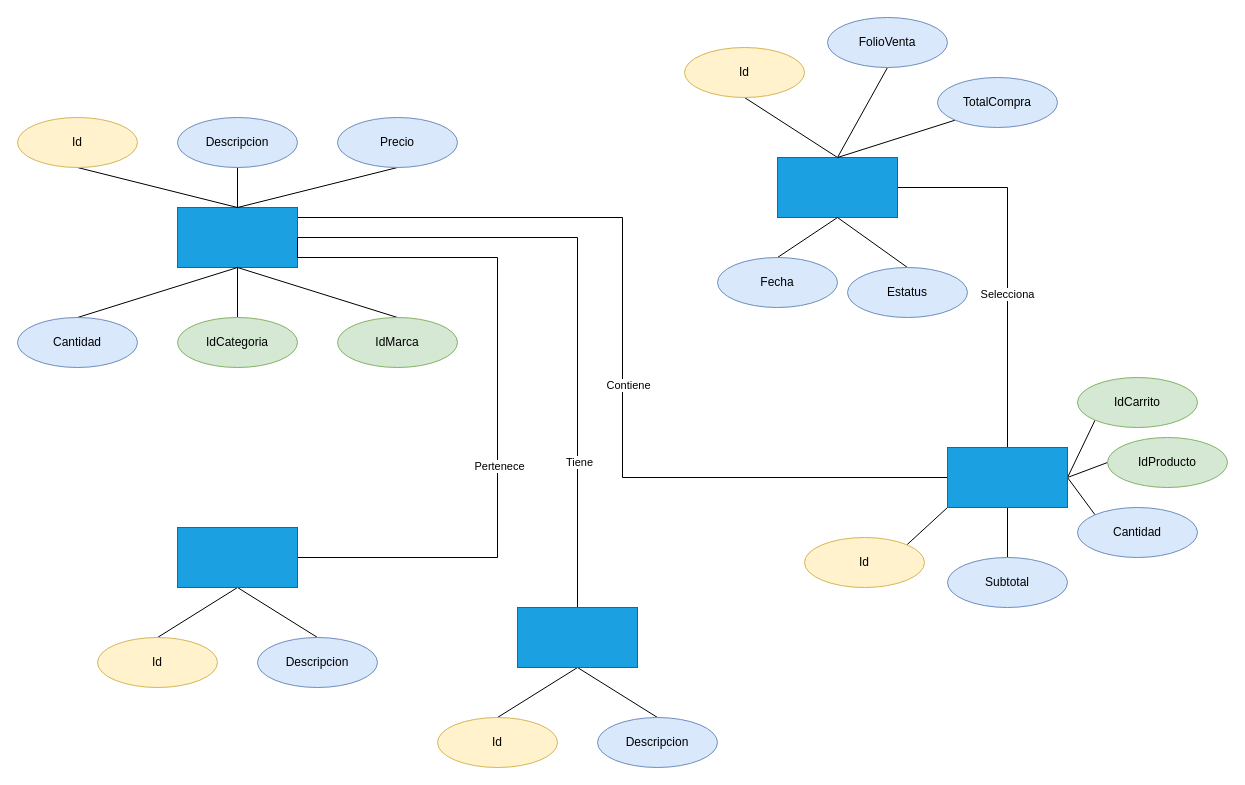
Some shapes in this 1245 by 785 pixel diagram are drawn without their labels. The shapes that lost their labels are listed below. From the top down, each one's box as (x1, y1, x2, y2) in pixels, then its label:
(776, 156, 898, 218): Carrito
(176, 206, 298, 268): Productos
(946, 446, 1068, 508): CarritoDetalle
(176, 526, 298, 588): Categorias
(516, 606, 638, 668): Marcas
